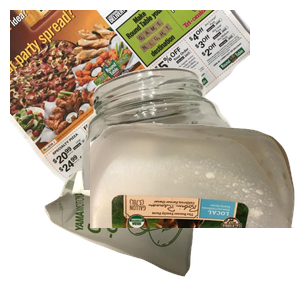glass: (74, 65, 300, 245)
paper: (10, 10, 250, 190)
plastic: (90, 120, 300, 300)
trash: (42, 126, 249, 300)
